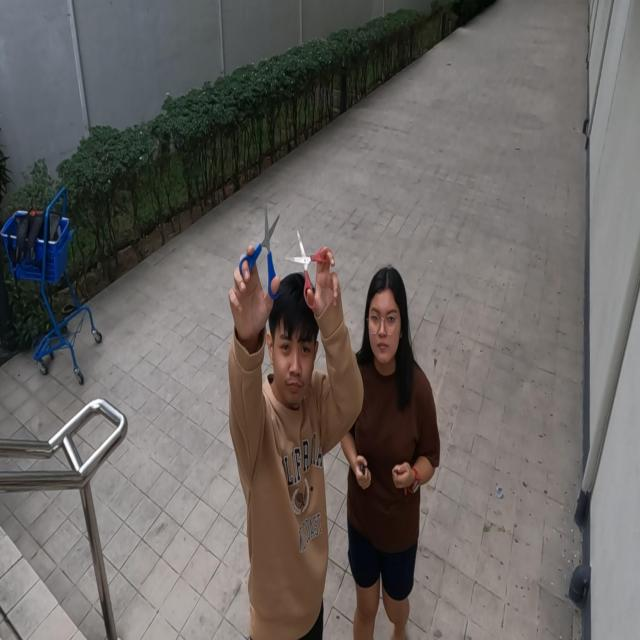scissor: (285, 228, 336, 310), (239, 204, 281, 300)
